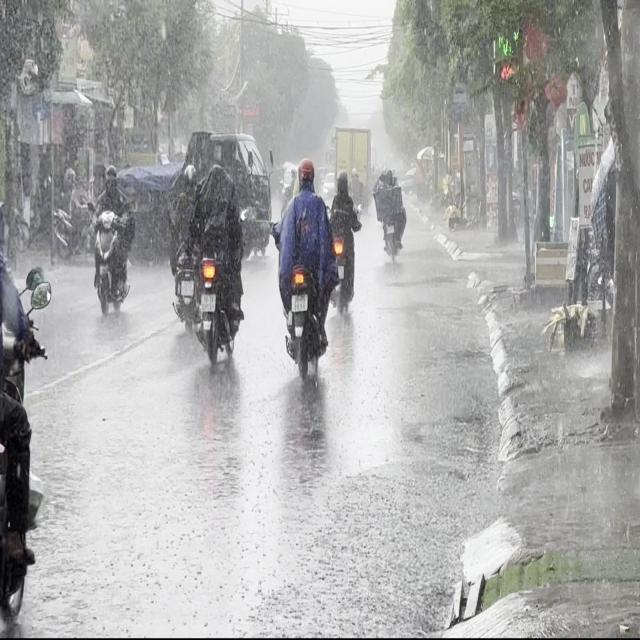helmet: (296, 156, 315, 189)
licenseplate: (0, 110, 47, 634), (276, 155, 334, 381), (194, 162, 246, 367)
nohelmet: (200, 294, 216, 311), (292, 295, 307, 312), (181, 280, 195, 296)
